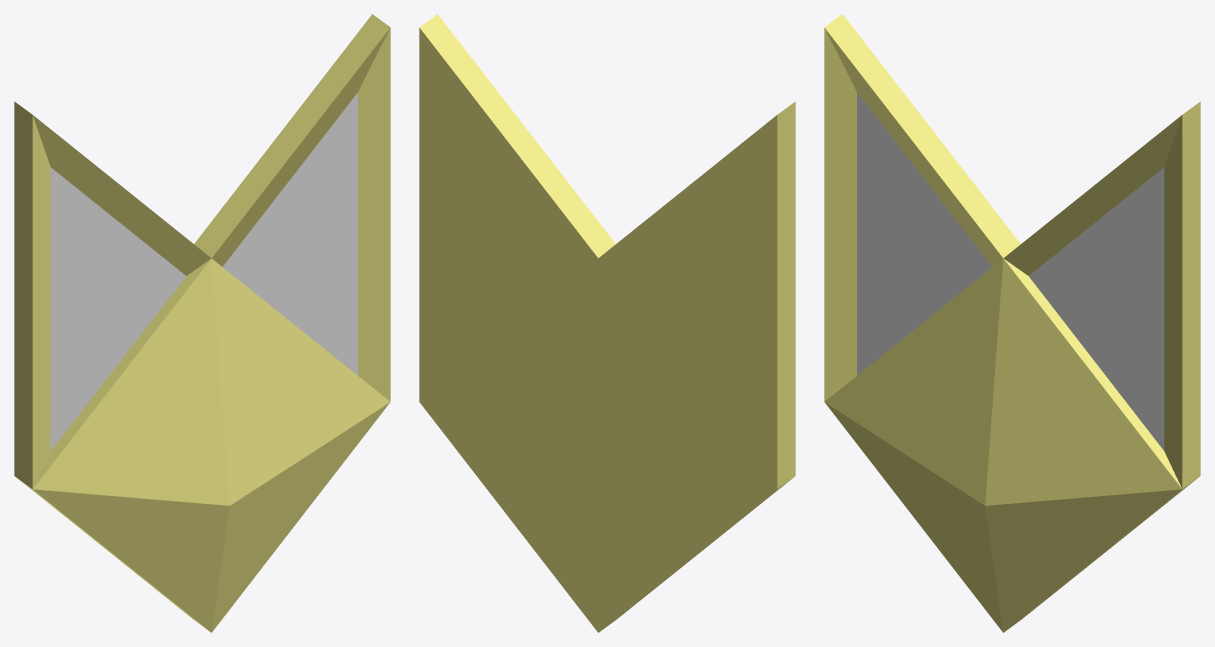
File: cubickitsune.fbx
3 renders of one model, left to right at view 1: azimuth 30°, elevation 25°; view 2: azimuth 150°, elevation 25°; view 3: azimuth 330°, elevation 25°, orthographic.
Visible parts, largest first — view 1: cubickitsune; view 2: cubickitsune; view 3: cubickitsune.
Part boxes in pixels (x1,y1,x2,y2): cubickitsune: (14,14,390,632); cubickitsune: (419,14,795,632); cubickitsune: (824,14,1200,632).
Size of the model in its own units: 141 by 212 by 25.
